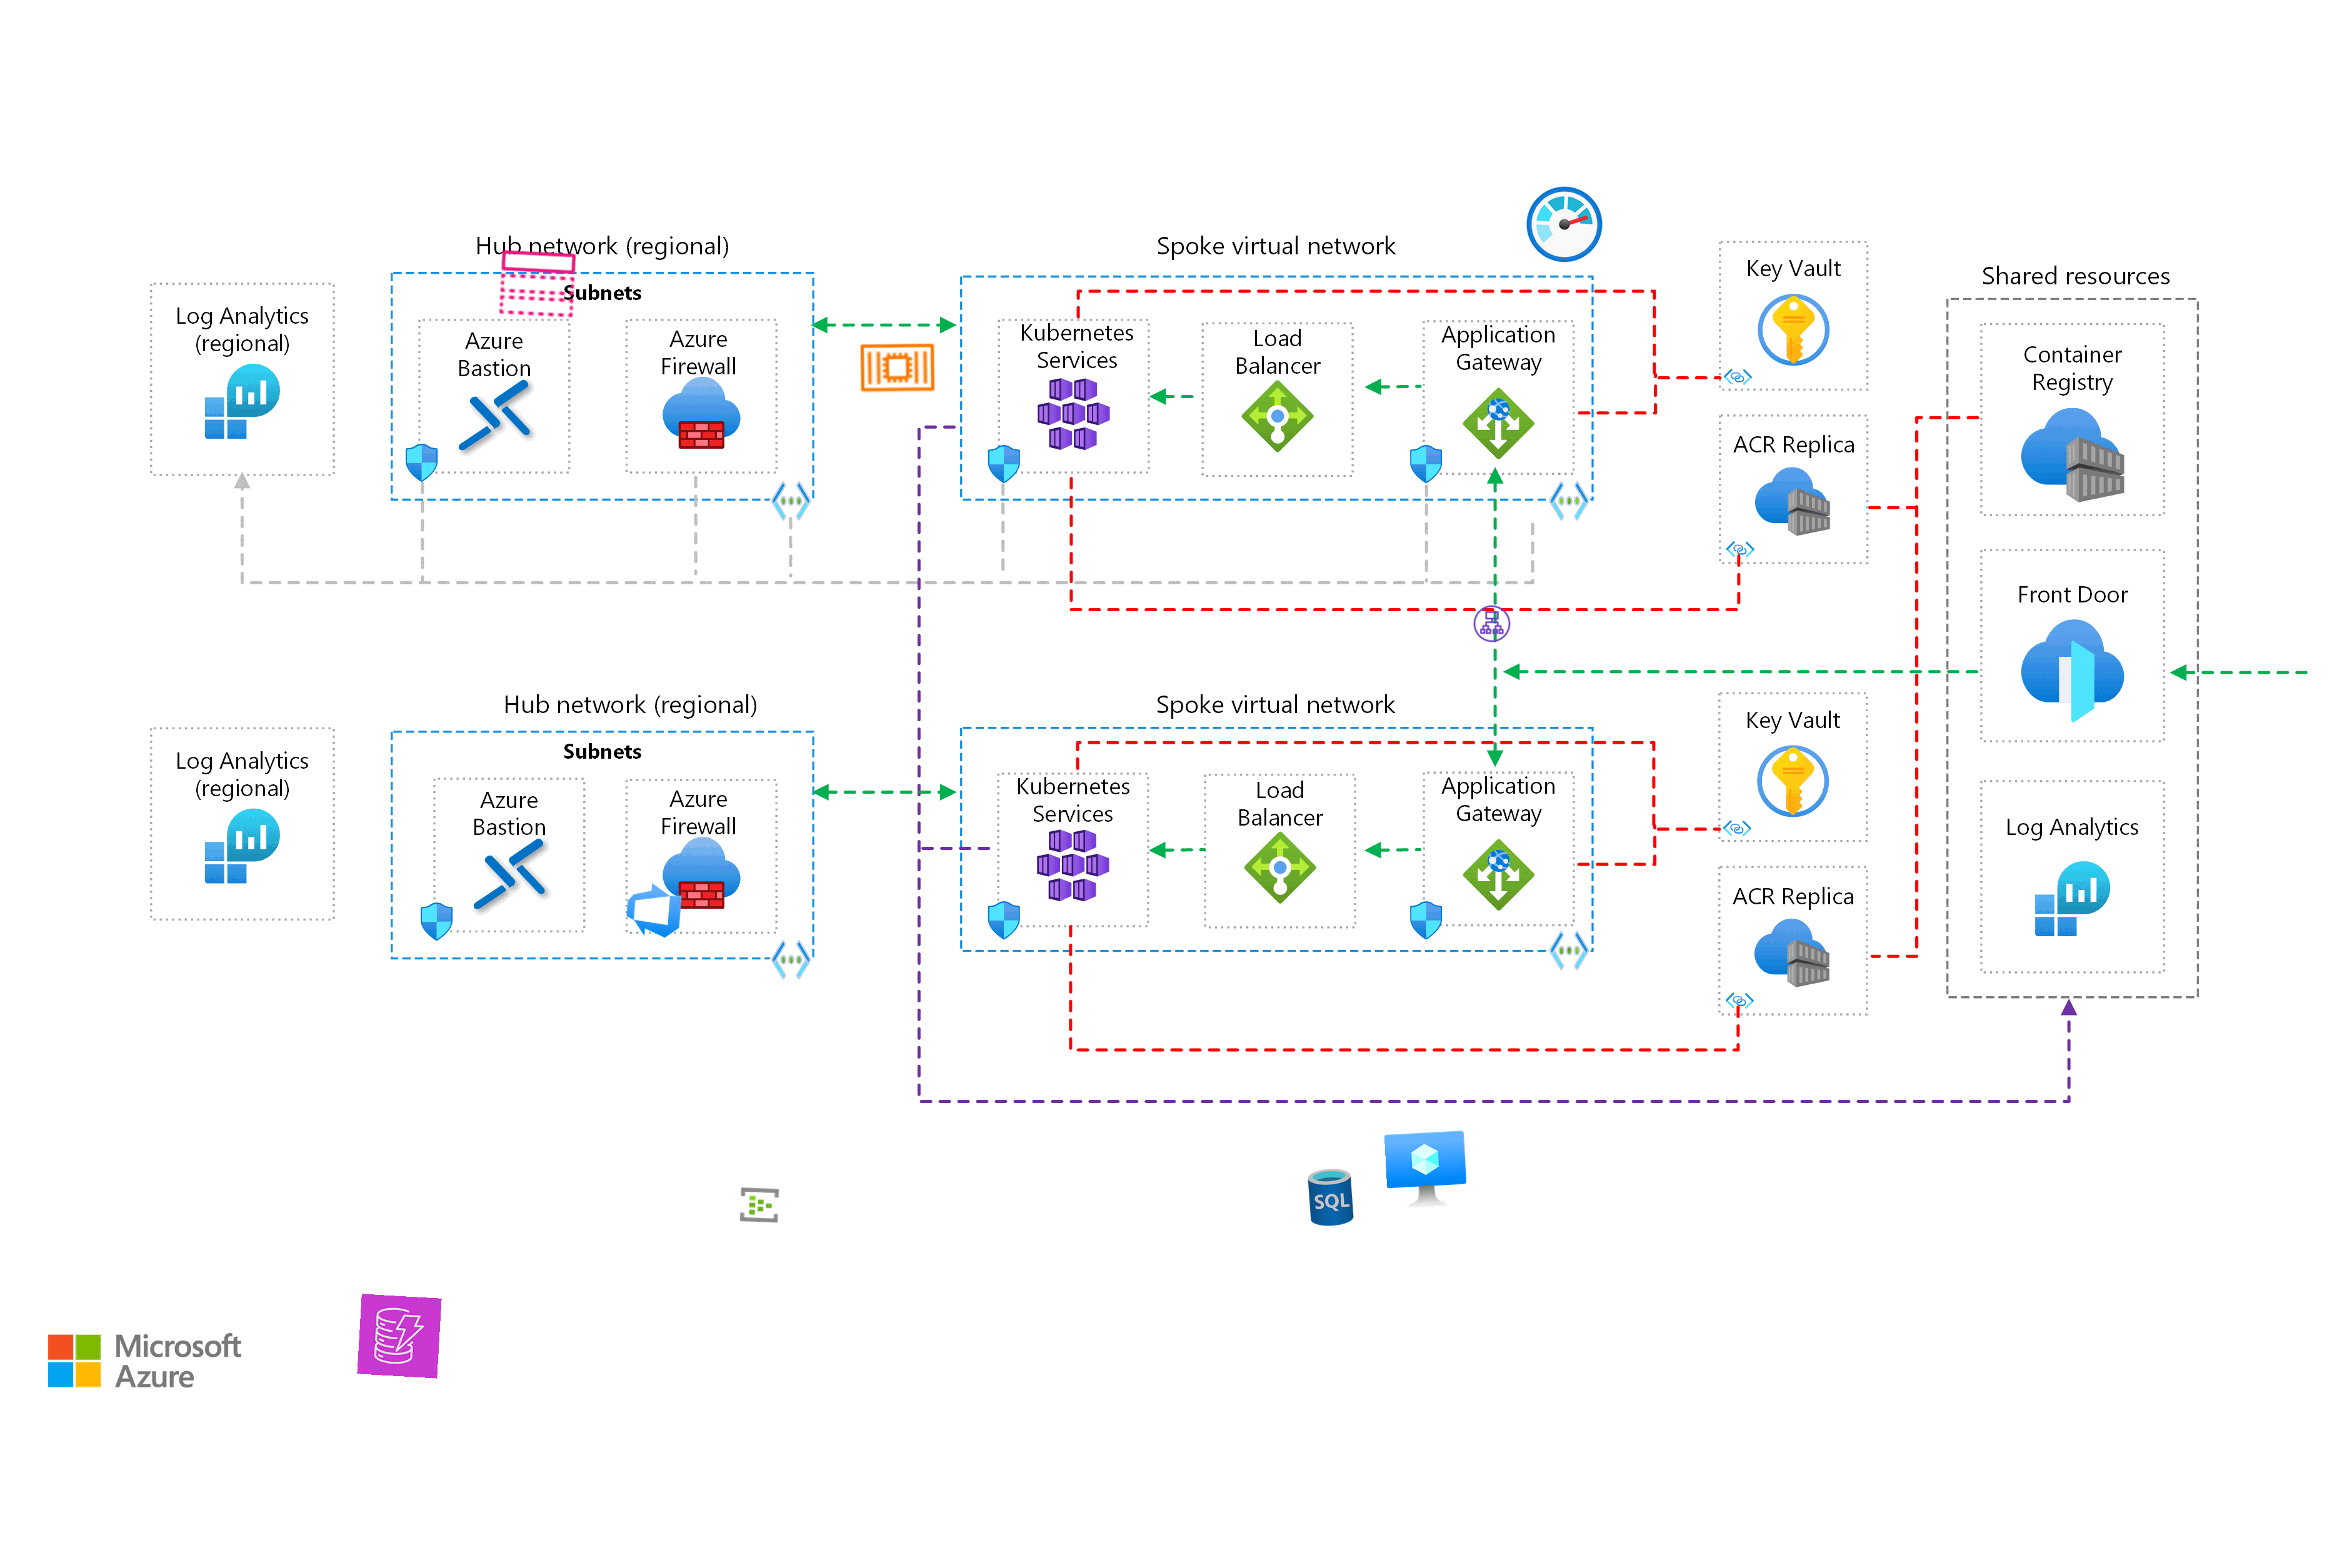aws_amazon_dynamodb: (357, 1293, 443, 1379)
aws_elastic_container_service_container_2: (858, 327, 938, 408)
aws_elastic_load_balancing_application_load_balancer: (1472, 604, 1512, 644)
aws_simple_notification_service_topic: (495, 241, 579, 325)
azure_devops: (621, 877, 686, 943)
azure_event_hubs: (739, 1183, 780, 1227)
azure_monitor: (1521, 182, 1608, 268)
azure_sql_database: (1298, 1165, 1363, 1230)
azure_virtual_machine: (1384, 1129, 1468, 1214)
